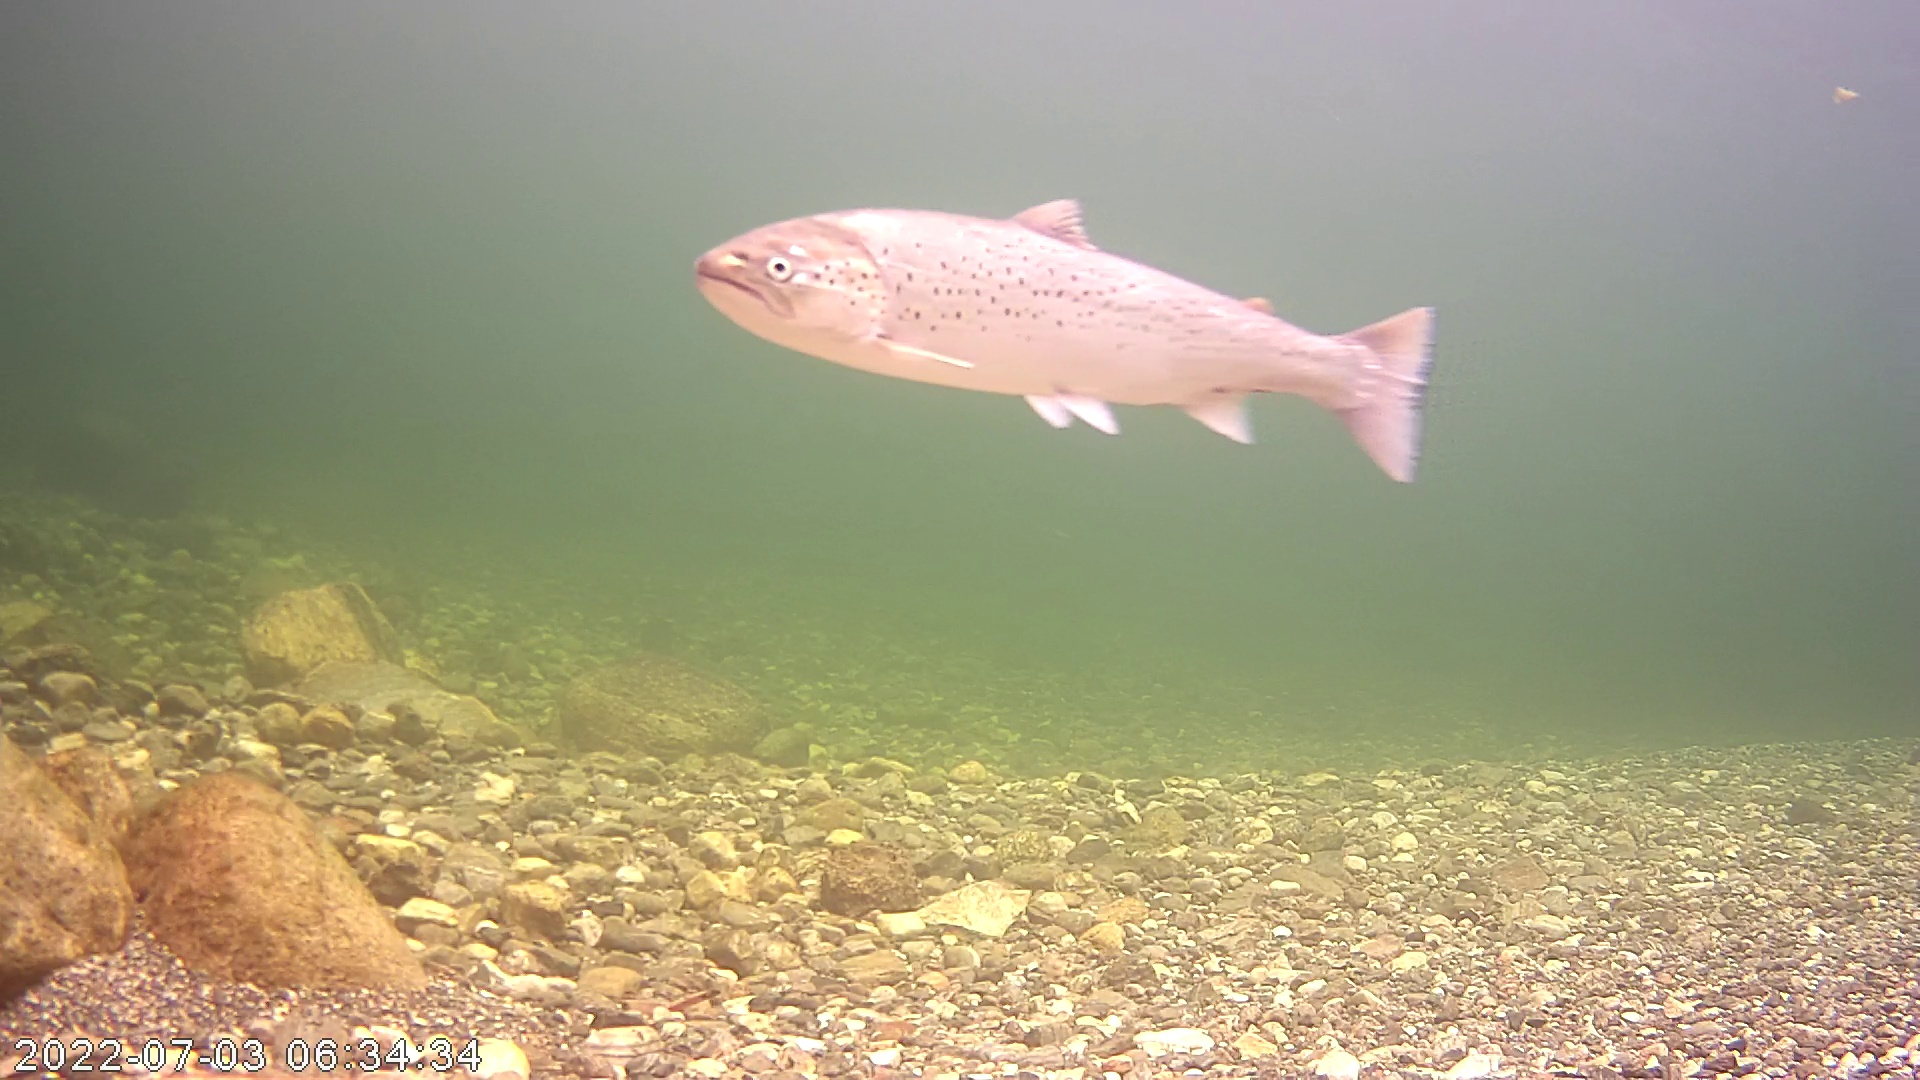salmon: (692, 194, 1435, 487)
